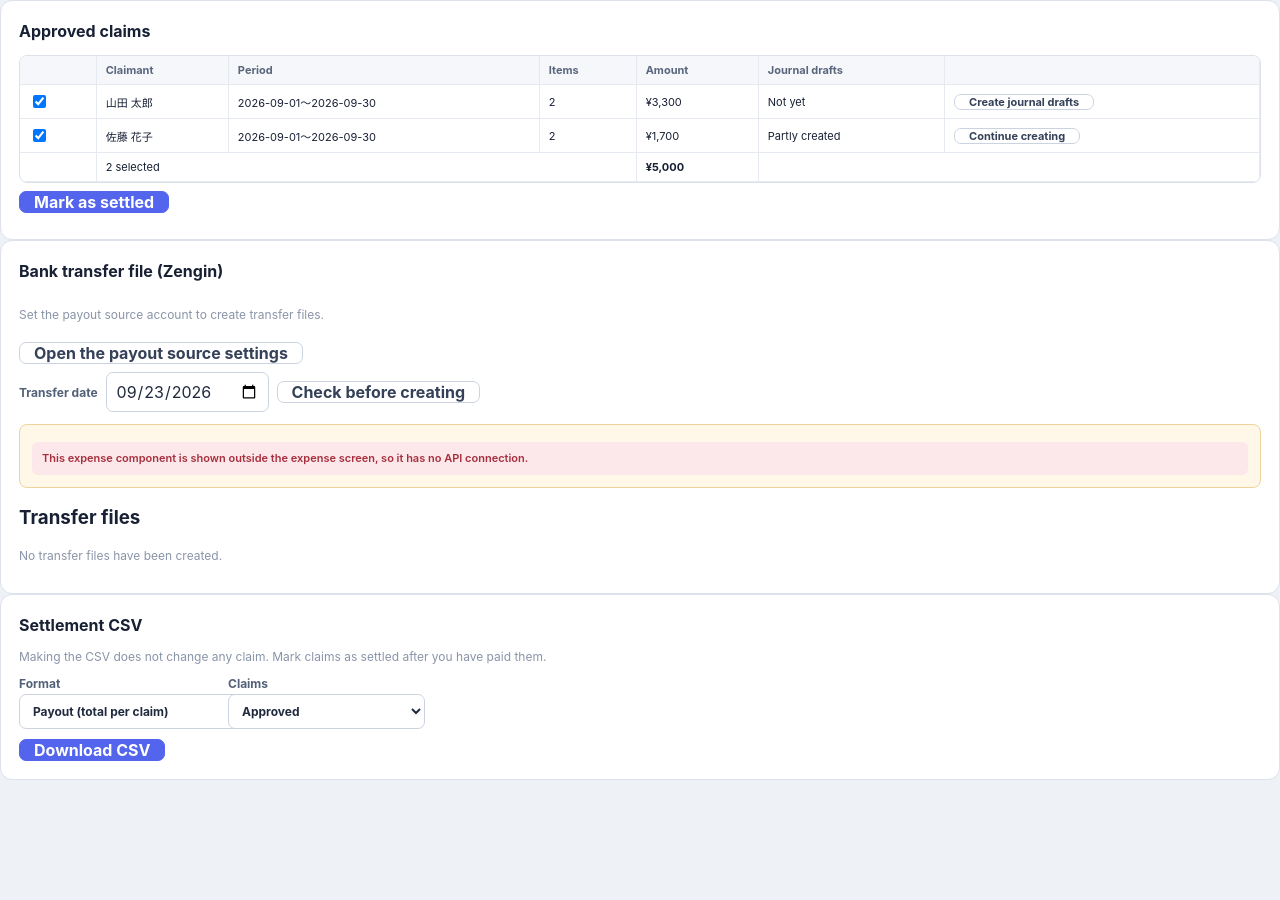
Scenario: SettleTab › 異常: 承認済みでない申請が混ざった 409 はその申請と状態を並べる
Click the button "Mark as settled" at [94, 202], box [19, 191, 169, 213]
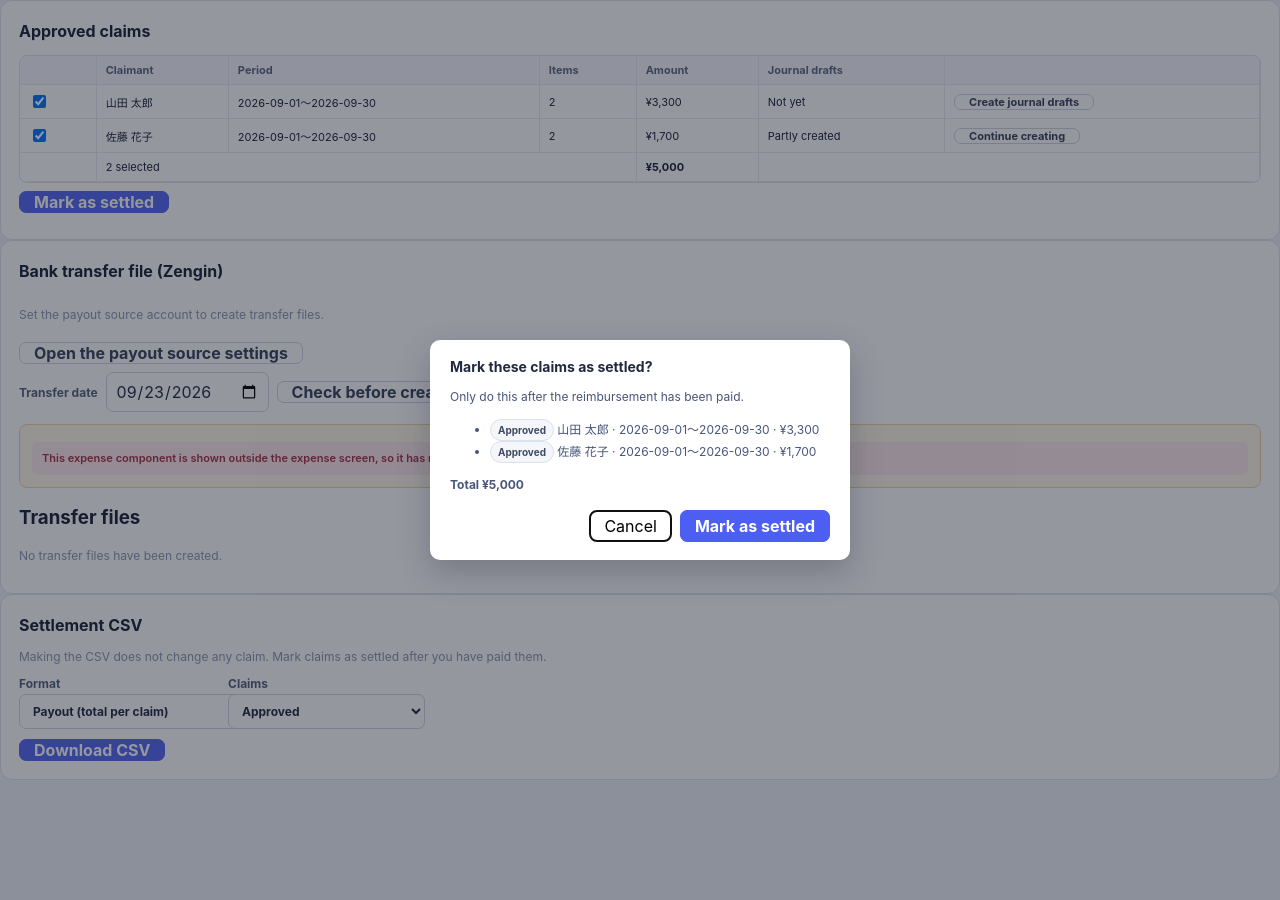
Click the button "Mark as settled" at [755, 526], box [680, 510, 830, 542]
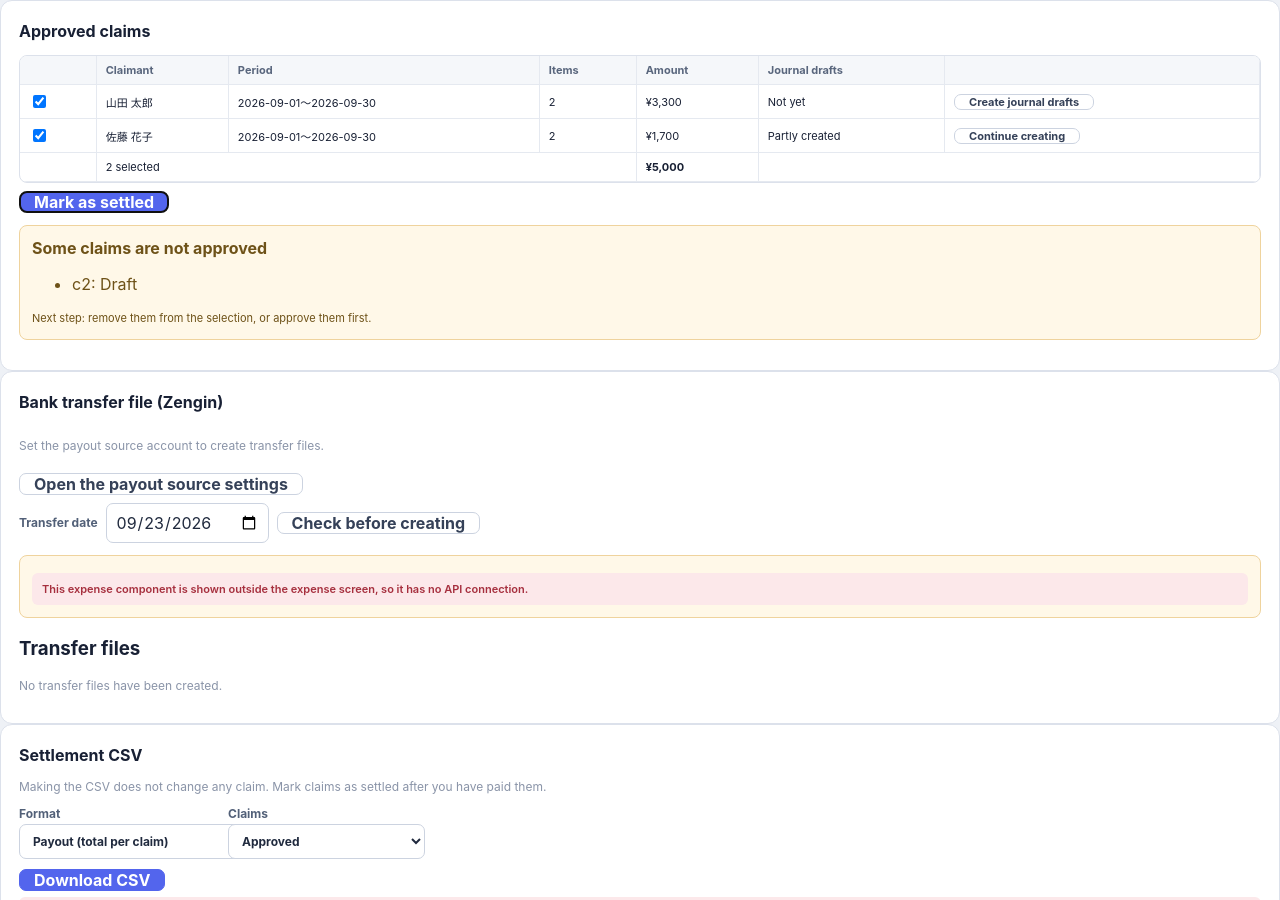
Expected: the text "Some claims are not approved" is shown, [32, 238, 267, 258]
Expected: the list item "c2: Draft" is shown, [72, 274, 137, 294]
